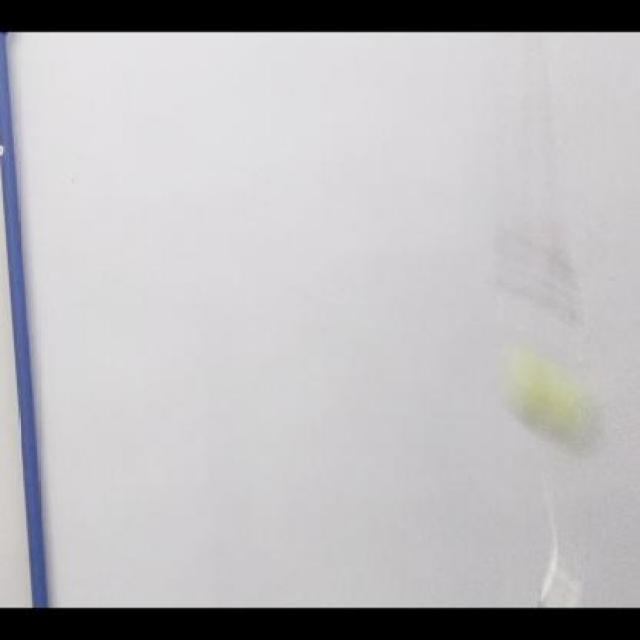baseball: (501, 341, 599, 454)
